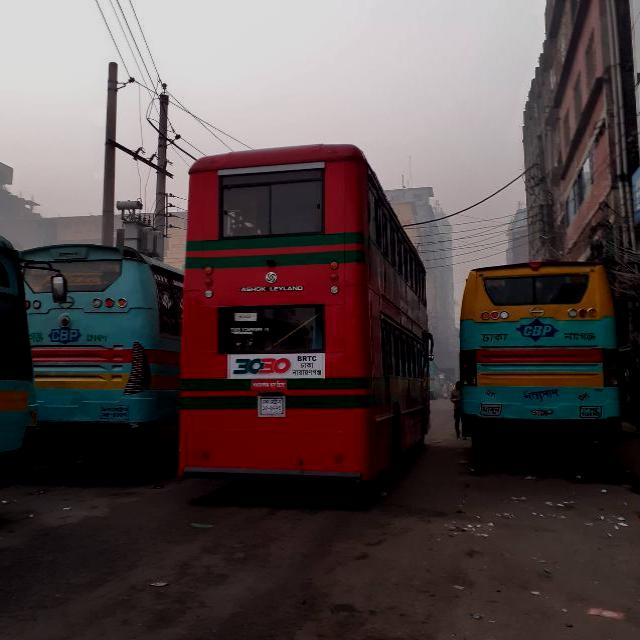BUS: (178, 135, 431, 493), (17, 240, 178, 474), (458, 256, 630, 452), (0, 207, 37, 462)
